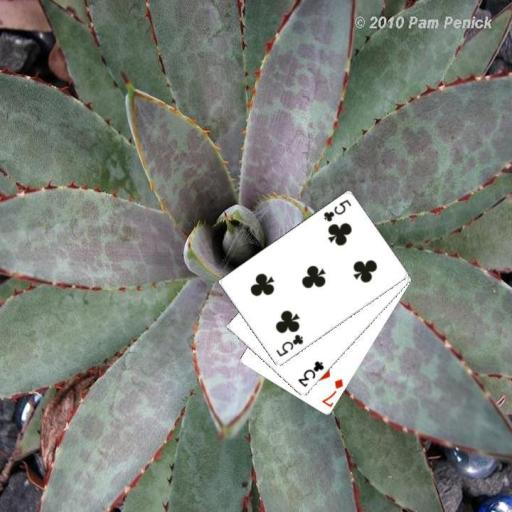3C: (294, 358, 326, 389)
5C: (320, 197, 353, 224), (273, 332, 305, 359)
7D: (318, 376, 345, 408)
